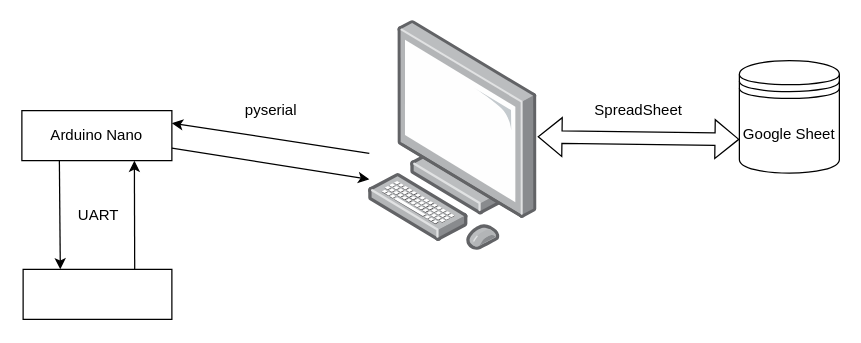
Some shapes in this 861 by 343 pixel diagram are drawn without their labels. The shapes that lost their labels are listed below. From the top down, each one's box as (x1, y1, x2, y2) in pixels, then its label:
(368, 20, 537, 250): Computer or laptop
(22, 268, 172, 319): AS608
